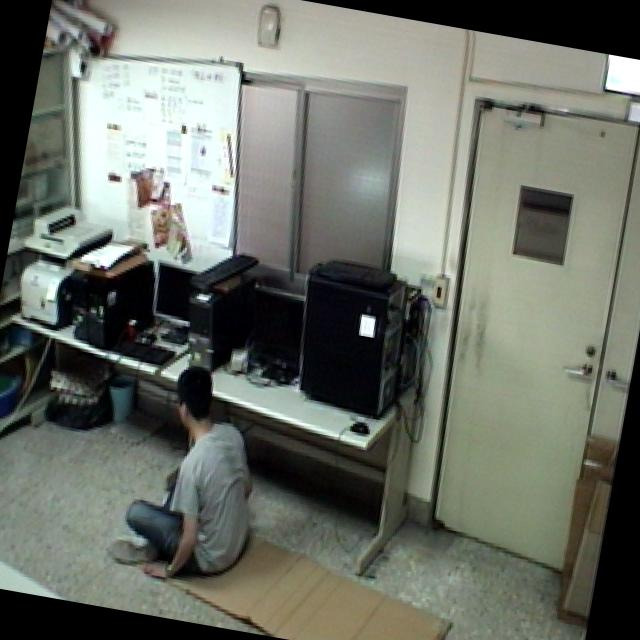sit: (99, 346, 286, 601)
